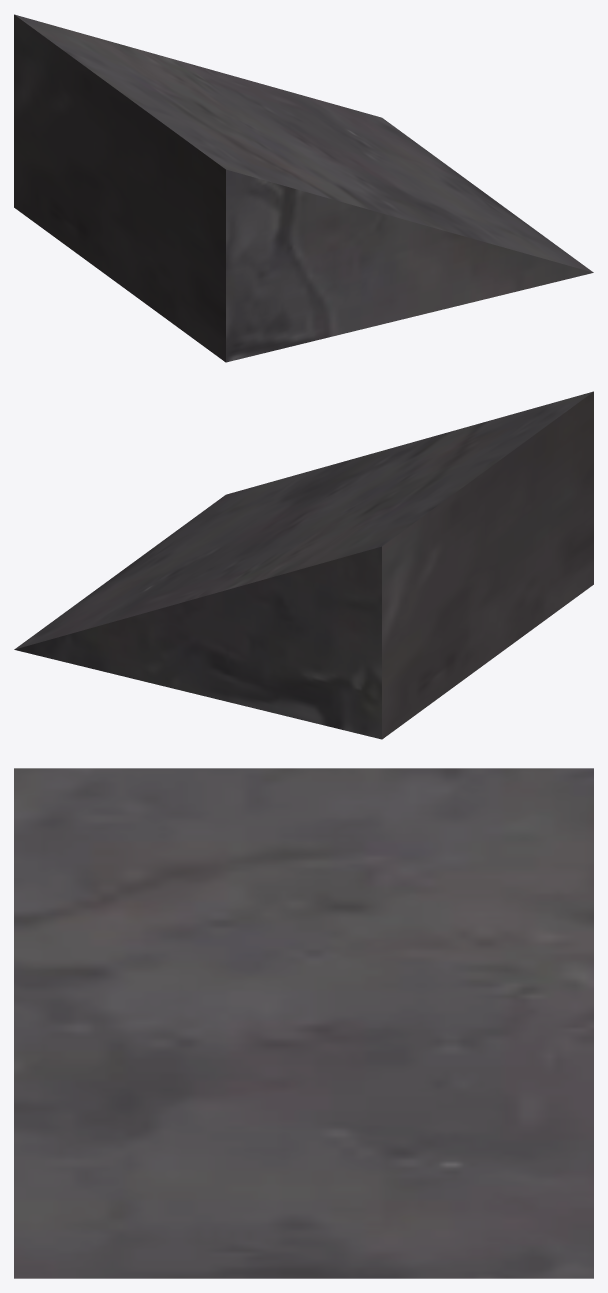
3 views of the same model, one above another, from view 1: azimuth 30°, elevation 25°; view 2: azimuth 150°, elevation 25°; view 3: azimuth 270°, elevation 25° (orthographic). The views are drawn at different scales.
Parts seen in each view (by area): view 1: SM_DK_4m_Ramp_01_LOD0; view 2: SM_DK_4m_Ramp_01_LOD0; view 3: SM_DK_4m_Ramp_01_LOD0.
Boxes of the visible parts, box(x1,y1,x2,y2) form: SM_DK_4m_Ramp_01_LOD0: box(14, 14, 593, 362); SM_DK_4m_Ramp_01_LOD0: box(14, 391, 593, 739); SM_DK_4m_Ramp_01_LOD0: box(14, 768, 593, 1278).
Bounding box in the file's own units: 4.01 × 2.01 × 4.
Materials: 1 (1 with a texture image).
